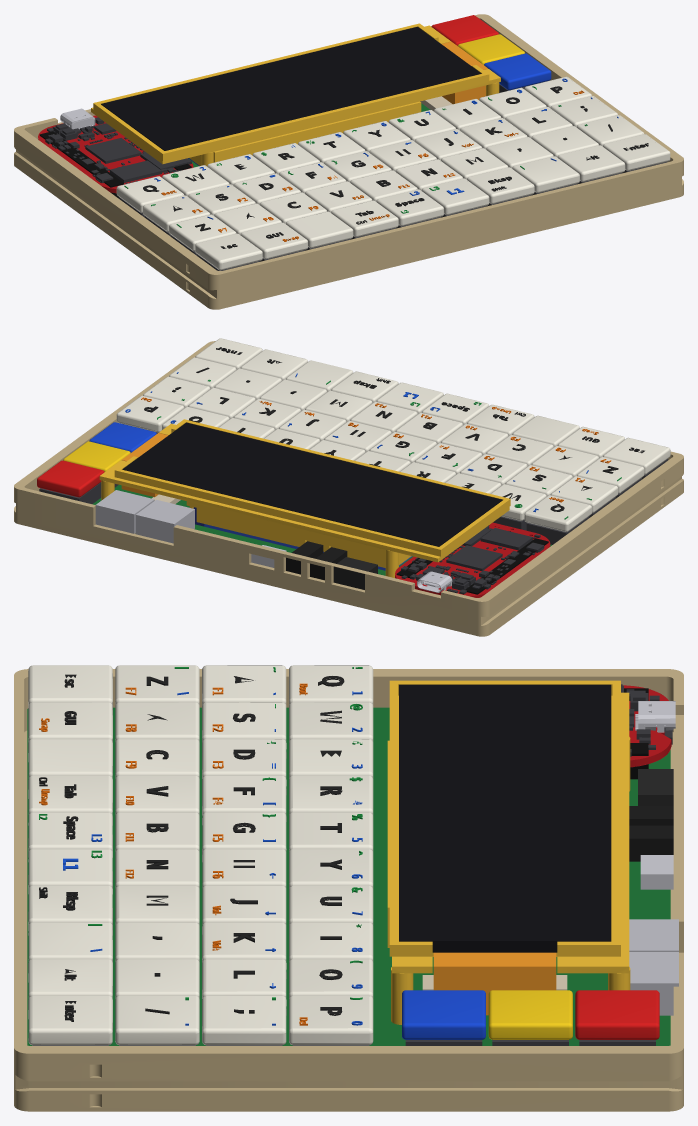
File: open_sand.glb
3 renders of one model, top to bottom at view 1: azimuth 30°, elevation 25°; view 2: azimuth 150°, elevation 25°; view 3: azimuth 270°, elevation 25°, orthographic. The views are drawn at different scales.
Parts seen in each view (by area): view 1: Internals, Tray; view 2: Internals, Tray; view 3: Internals, Tray.
Part boxes in pixels (x1=…): Internals: x1=38, y1=15, x2=670, y2=270; Tray: x1=14, y1=14, x2=683, y2=309; Internals: x1=37, y1=338, x2=670, y2=597; Tray: x1=14, y1=341, x2=683, y2=636; Internals: x1=27, y1=665, x2=678, y2=1045; Tray: x1=14, y1=669, x2=683, y2=1111.
Size of the model in its own units: 0.1782 by 0.0211 by 0.1312.
